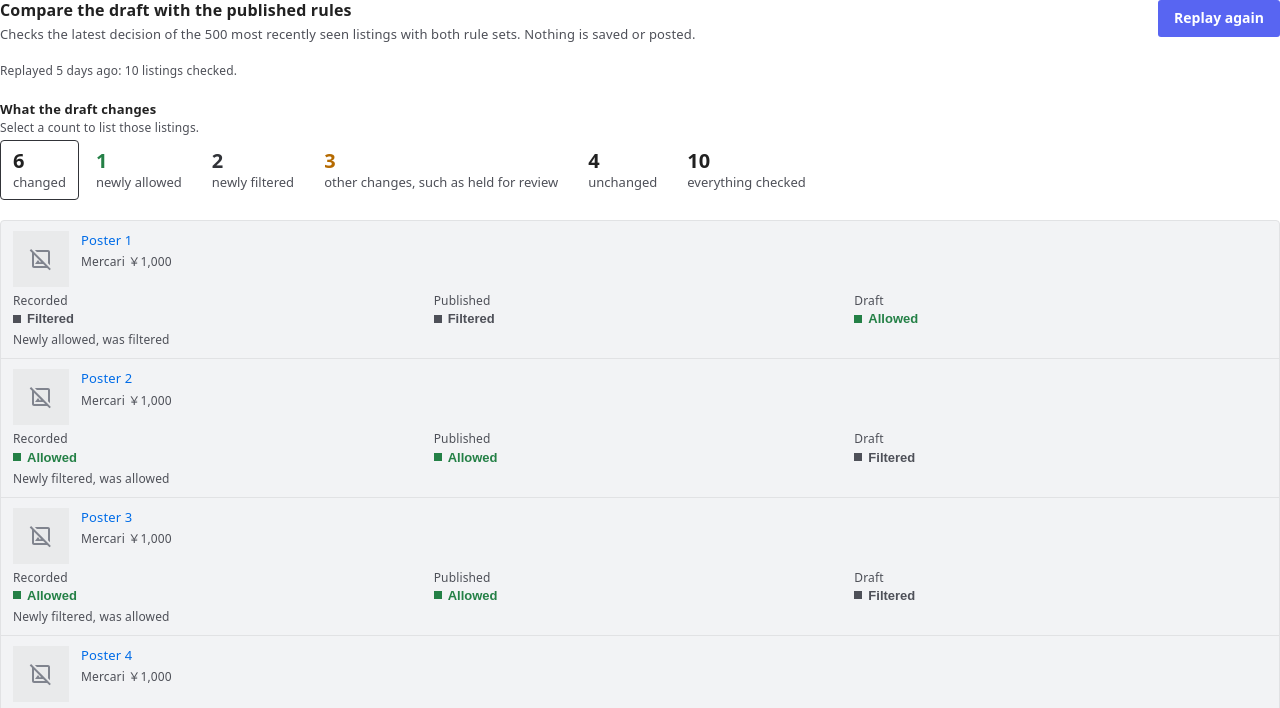
Replay results › shows each listing as a card with its three decisions on a phone
Check: the 1st button "Filtered" is shown, box [9,309,78,328]
Check: the button with aria-label "Published rules: Filtered. Show why." is shown, box [430,309,499,328]
The reasons are one tap away.
Step 1. Click the button with aria-label "Your draft: Allowed. Show why." → (886, 319), box [850,309,922,328]
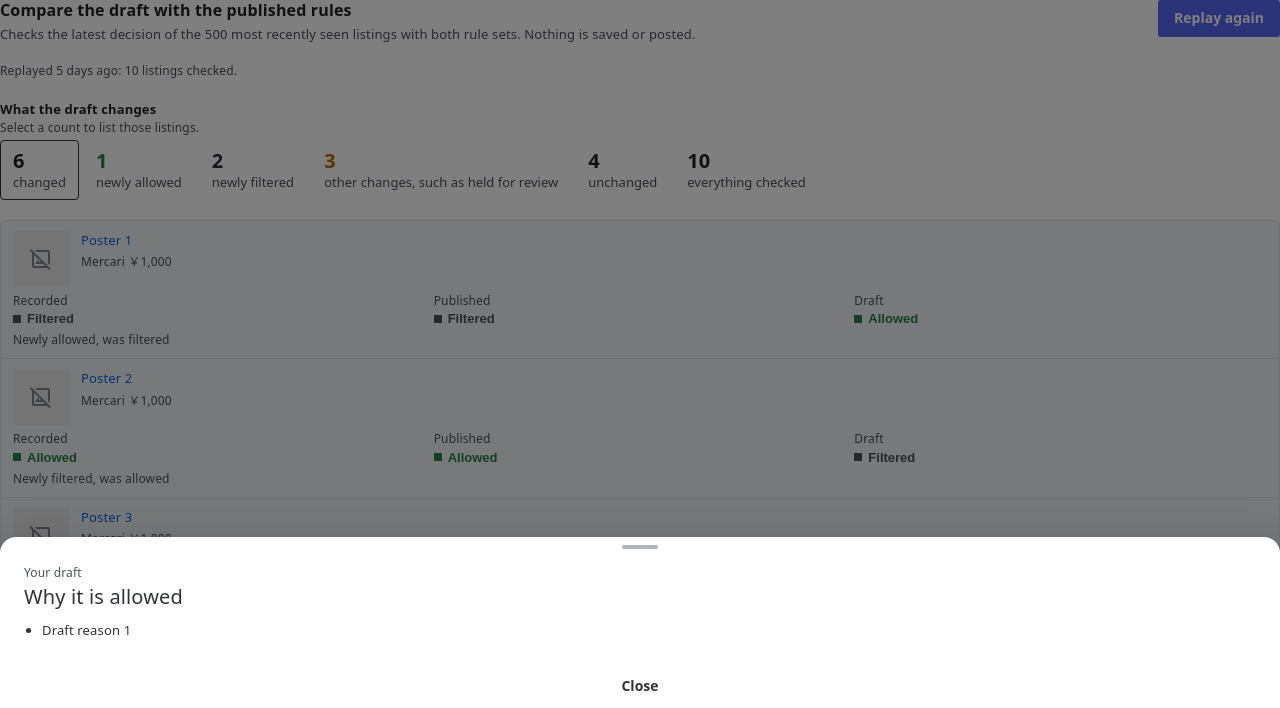
Check: the list item "Draft reason 1" is shown, box [42,621,131,639]
